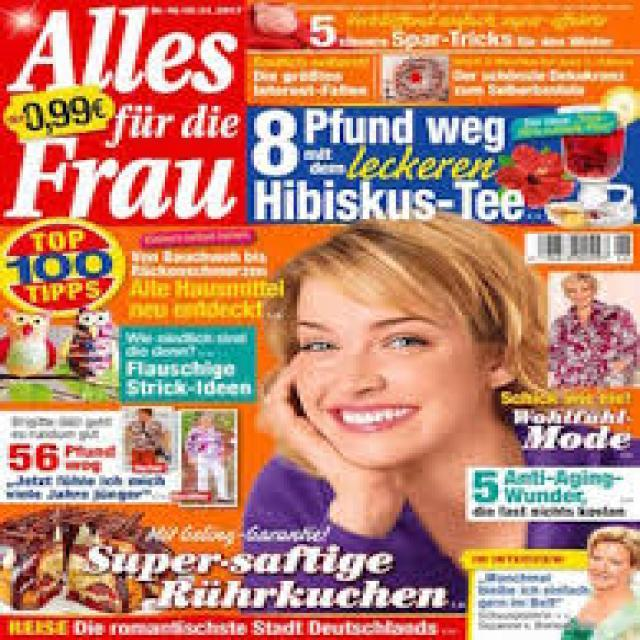Newspaper: (0, 6, 640, 640)
